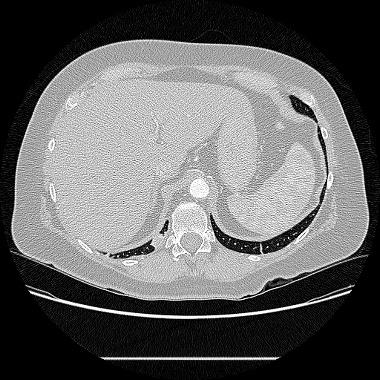PN: (151, 234, 163, 246)
